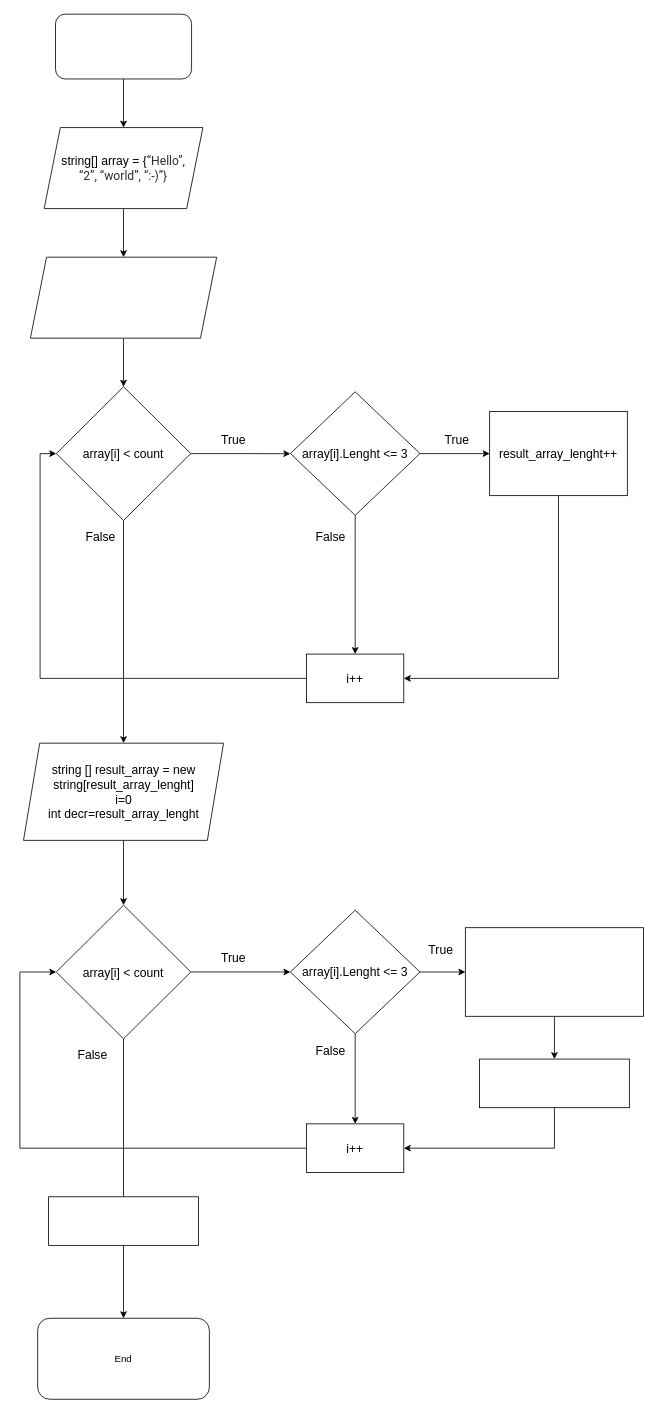
Some shapes in this 658 by 1413 pixel diagram are drawn without their labels. Here are the shapes that lost their labels. From the top down, the centre of each, then its label:
At [123,46]: "Start".
At [123,297]: "int i = 0 int count = array.Lenght int result_array_lenght = 0".
At [554,971]: "result_array[result_array_lenght-decr] = array[i]".
At [554,1083]: "decr--".
At [123,1220]: "print (array[]) print (result_array[])".
